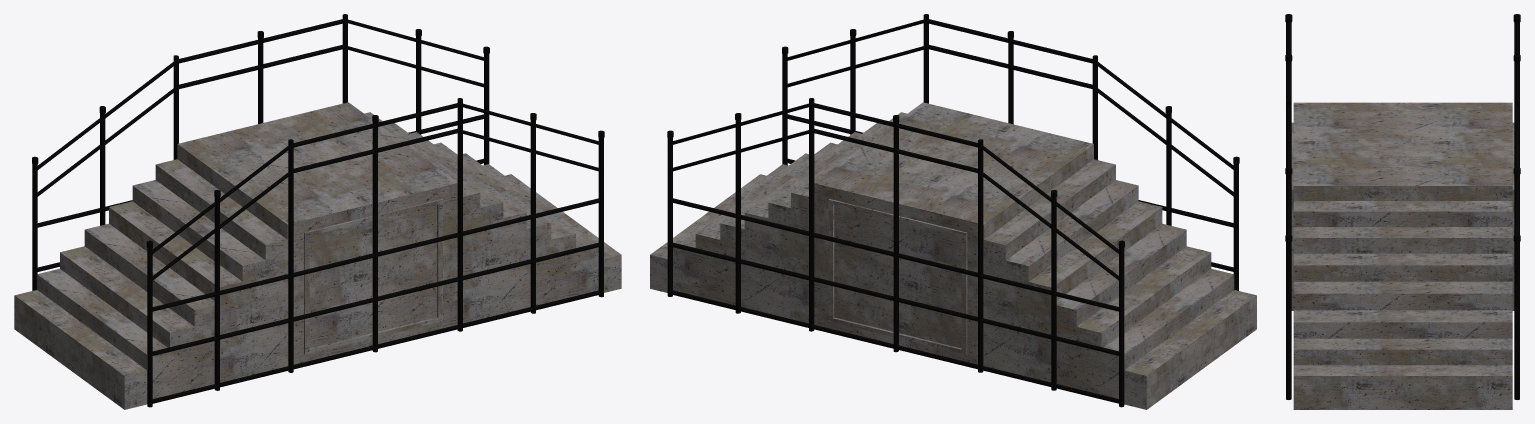
Rendered from fbxSTAIRS.fbx.
The picture shows the model from 3 angles, left to right: view 1: azimuth 30°, elevation 25°; view 2: azimuth 150°, elevation 25°; view 3: azimuth 270°, elevation 25°; orthographic projection.
Parts seen in each view (by area): view 1: stairs2, fence, fence1; view 2: stairs2, fence1, fence; view 3: stairs2, fence, fence1.
Boxes of the visible parts, box(x1,y1,x2,y2) form: stairs2: box(14, 102, 621, 409); fence: box(146, 98, 604, 407); fence1: box(32, 14, 489, 290); stairs2: box(650, 102, 1256, 409); fence1: box(667, 98, 1124, 407); fence: box(782, 14, 1239, 290); stairs2: box(1291, 102, 1514, 409); fence: box(1285, 14, 1292, 399); fence1: box(1513, 14, 1520, 399).
Bounding box in the file's own units: 8.31 × 3.75 × 3.42.
2 materials, 1 textured.
